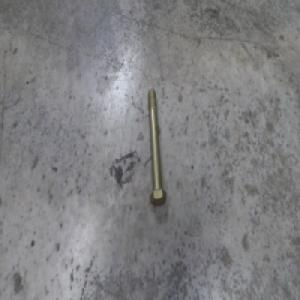Bolt: (145, 84, 167, 201)
